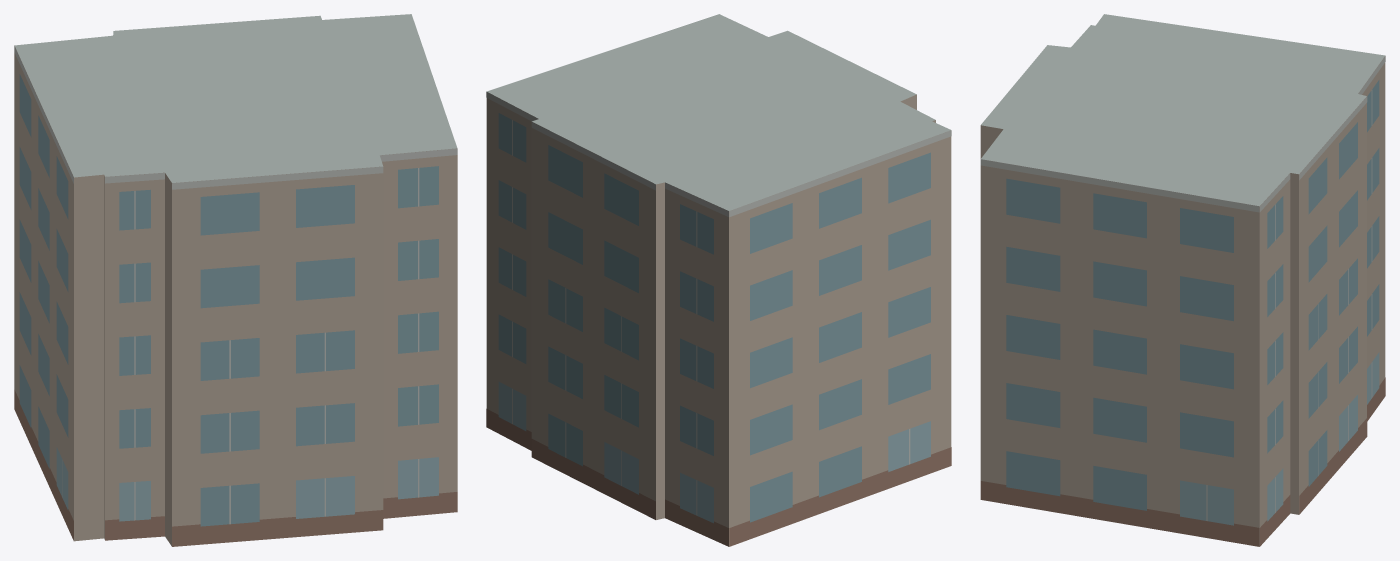
The model's file is survey-upis-32891011.glb.
The picture shows the model from 3 angles, left to right: view 1: azimuth 30°, elevation 25°; view 2: azimuth 150°, elevation 25°; view 3: azimuth 270°, elevation 25°; orthographic projection. The views are drawn at different scales.
Parts seen in each view (by area): view 1: survey-upis-32891011.tmp; view 2: survey-upis-32891011.tmp; view 3: survey-upis-32891011.tmp.
Boxes of the visible parts, <box> form: survey-upis-32891011.tmp: <box>14,14,457,546</box>; survey-upis-32891011.tmp: <box>486,14,951,546</box>; survey-upis-32891011.tmp: <box>980,14,1385,546</box>.
Size of the model in its own units: 15.99 by 13.2 by 14.23.
